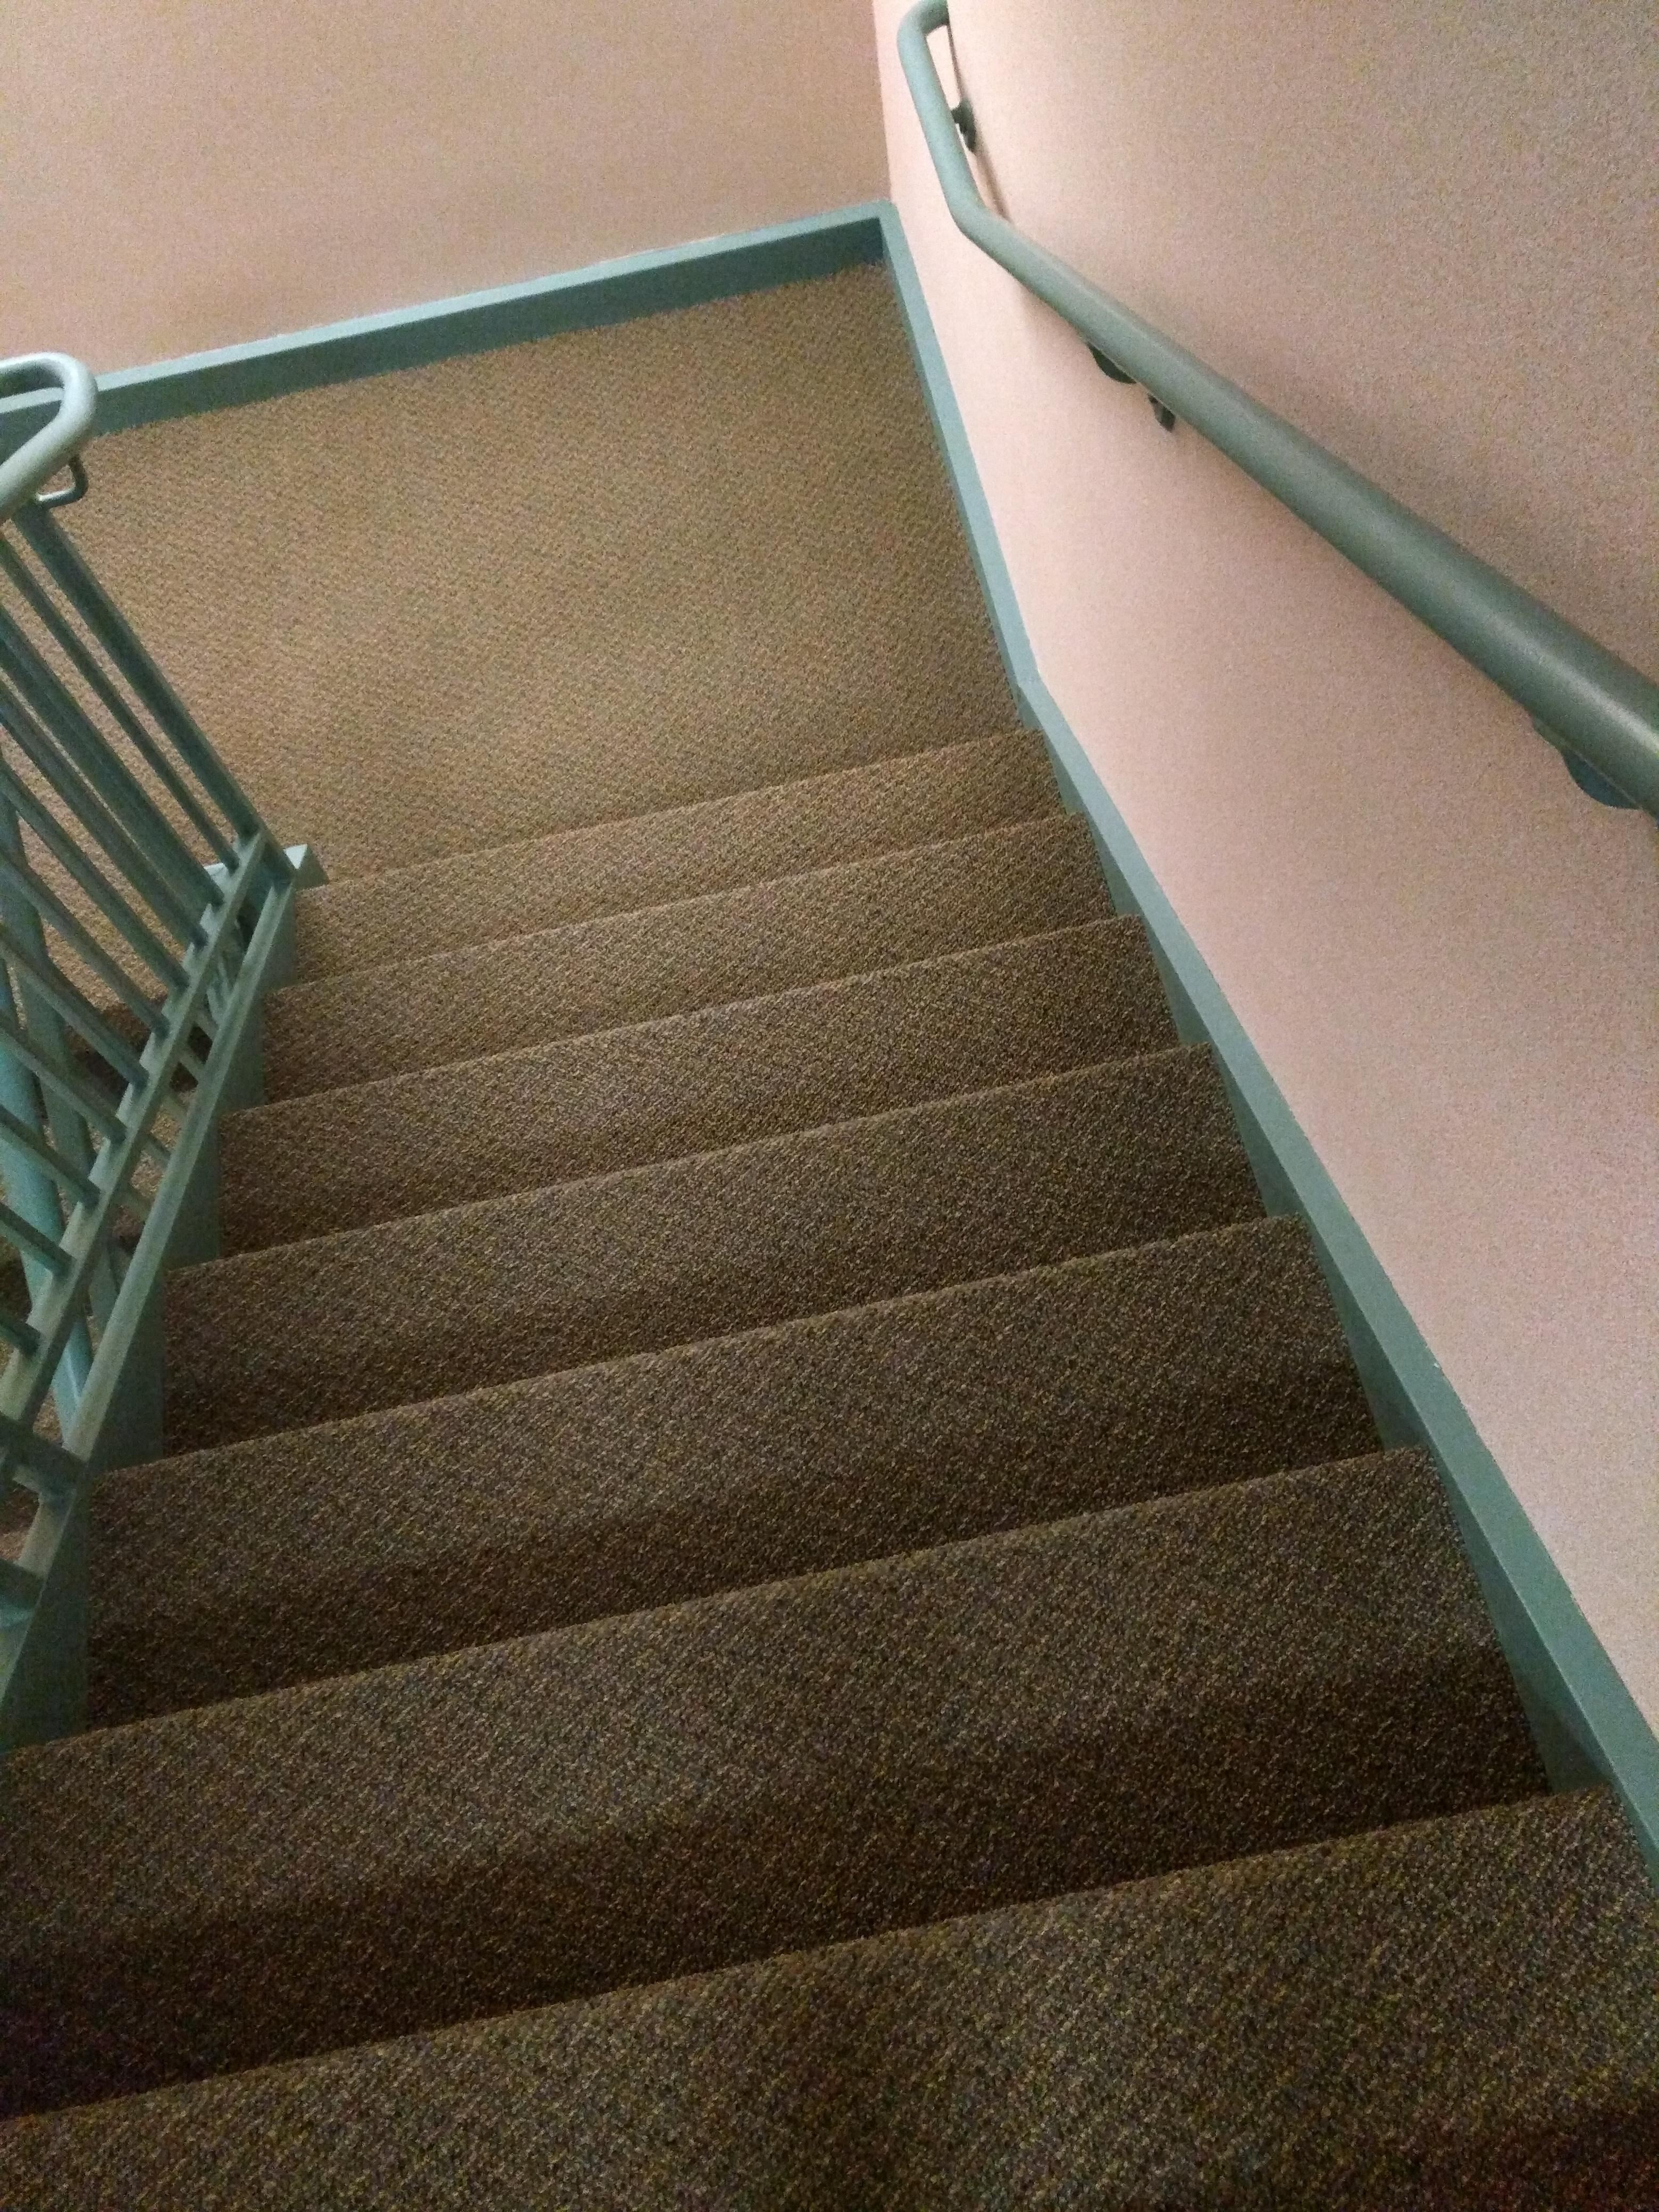stairs_down: (61, 819, 1593, 1949)
